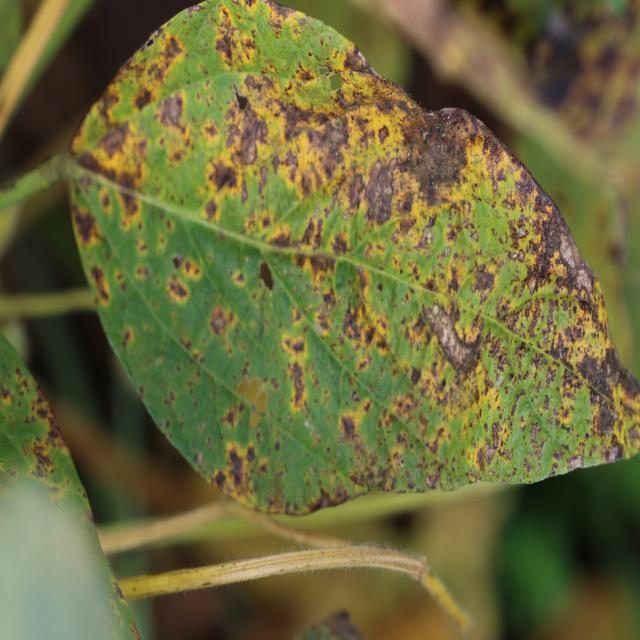Bacterial_Blight: (414, 115, 485, 204), (417, 292, 483, 384), (525, 202, 587, 295), (357, 153, 406, 228), (224, 100, 268, 169), (280, 99, 326, 141), (332, 259, 361, 312), (262, 0, 307, 29), (96, 123, 131, 160), (612, 365, 640, 409), (72, 201, 100, 245), (159, 92, 185, 128), (470, 264, 497, 298), (30, 441, 55, 477), (89, 263, 111, 303), (288, 361, 306, 405), (214, 28, 235, 65), (342, 48, 368, 73), (227, 446, 244, 483), (166, 276, 189, 303), (300, 218, 319, 247), (134, 85, 154, 111), (258, 261, 275, 291), (340, 413, 358, 440), (233, 82, 248, 110), (312, 490, 333, 510), (608, 435, 624, 460), (203, 197, 218, 221), (254, 391, 268, 414), (328, 72, 343, 91), (484, 442, 497, 463), (566, 455, 583, 471), (425, 470, 439, 488), (410, 365, 422, 385), (112, 581, 124, 601), (377, 125, 390, 143), (529, 422, 539, 445), (527, 275, 538, 294), (172, 254, 183, 270), (195, 451, 204, 467), (141, 267, 150, 280), (422, 129, 430, 141), (351, 390, 359, 402), (145, 38, 154, 48), (376, 281, 383, 292)
Soybean: (0, 0, 640, 515)
